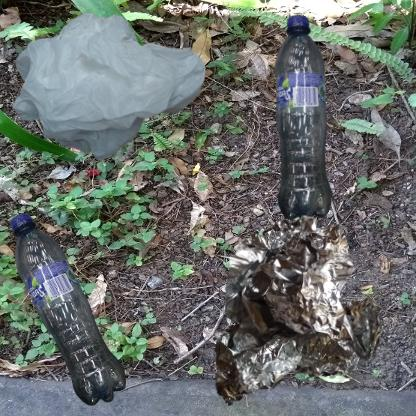aluminio: (213, 213, 385, 409)
bolsa: (10, 10, 209, 165)
botella: (213, 10, 416, 281), (10, 213, 126, 406)
